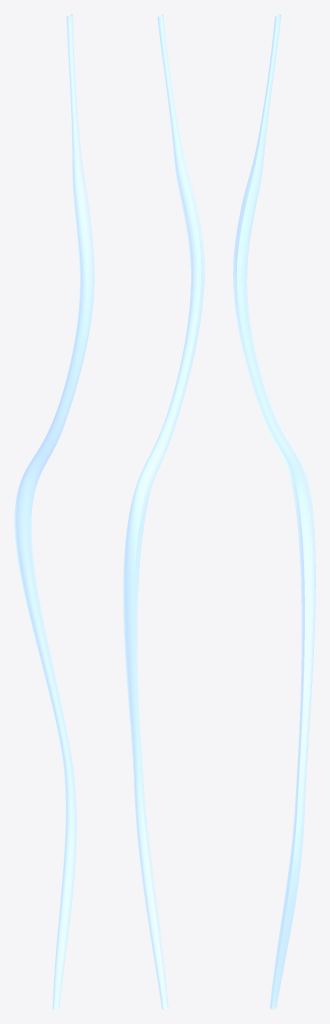
The model's file is strand_d_scenic.glb.
The picture shows the model from 3 angles, left to right: view 1: azimuth 90°, elevation 25°; view 2: azimuth 150°, elevation 25°; view 3: azimuth 330°, elevation 25°; orthographic projection.
Size of the model in its own units: 0.5176 by 8.01 by 0.59.
